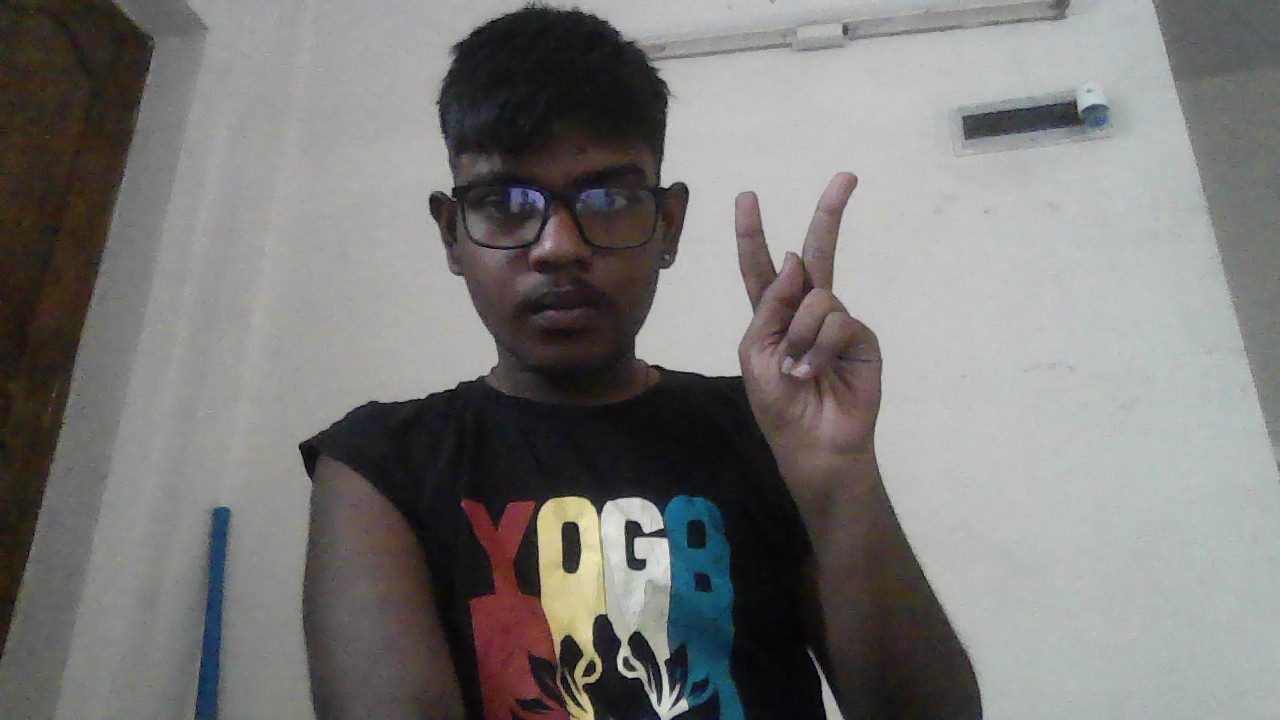K: (733, 171, 882, 478)
